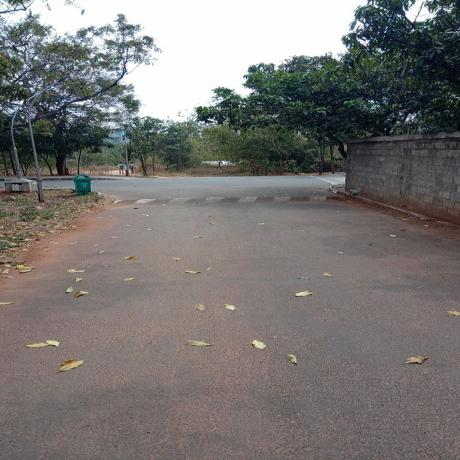Speed Bump: (91, 194, 349, 203)
